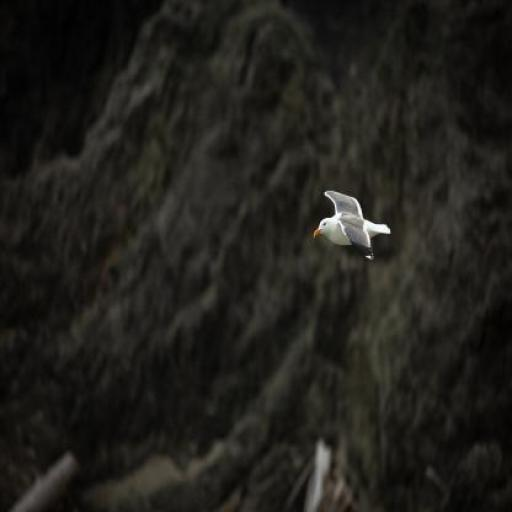bird: (314, 188, 392, 261)
